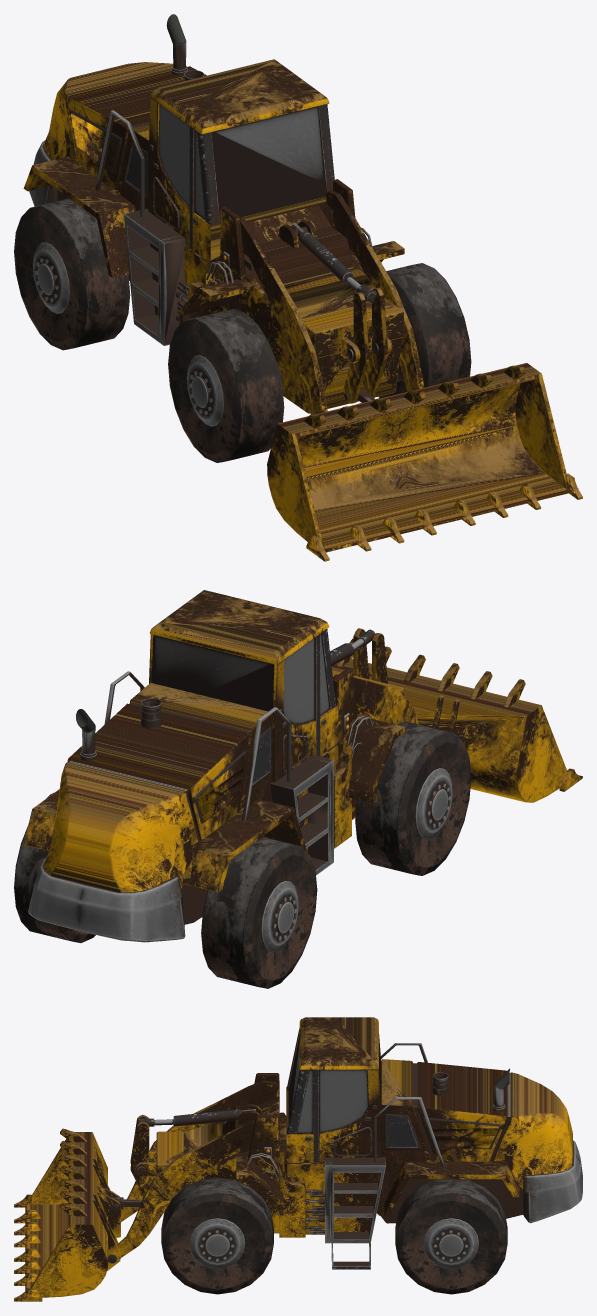
The model's file is wheel-loader.glb.
3 renders of one model, top to bottom at view 1: azimuth 30°, elevation 25°; view 2: azimuth 150°, elevation 25°; view 3: azimuth 270°, elevation 25°, orthographic. The views are drawn at different scales.
Visible parts, largest first — view 1: defaultMaterial (×5); view 2: defaultMaterial (×6); view 3: defaultMaterial (×6).
Boxes of the visible parts, box(x1,y1,x2,y2) form: defaultMaterial (×5): box(14, 14, 582, 561); defaultMaterial (×6): box(14, 590, 582, 988); defaultMaterial (×6): box(14, 1017, 582, 1301).
Bounding box in the file's own units: 320 × 336 × 805.
Materials: 7 (6 with a texture image).
